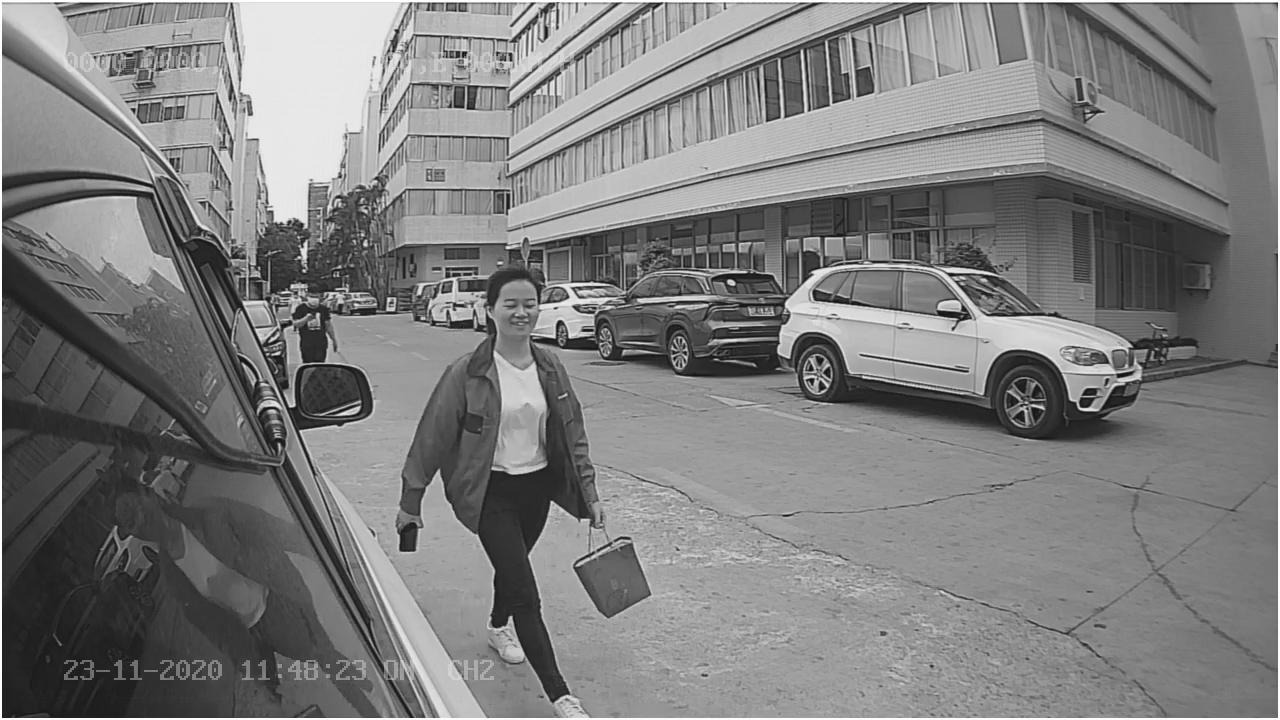person: (394, 217, 607, 552)
